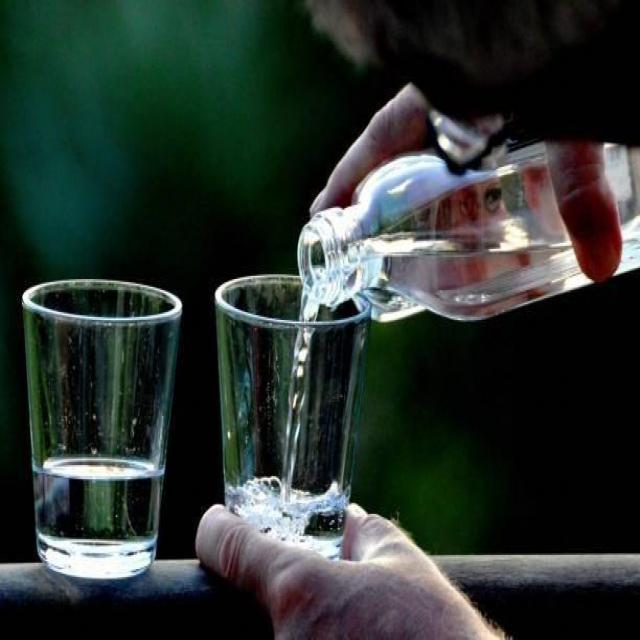glass-normal: (20, 276, 183, 582), (214, 271, 372, 557)
